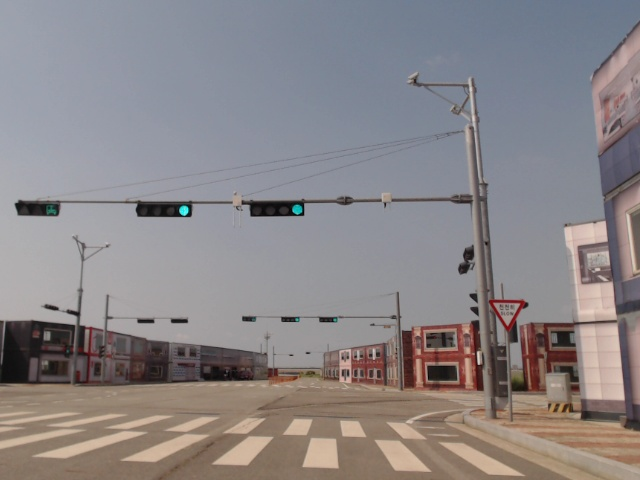straight_green_4: (135, 199, 193, 218), (250, 201, 303, 216), (318, 316, 339, 322), (283, 316, 300, 323)
